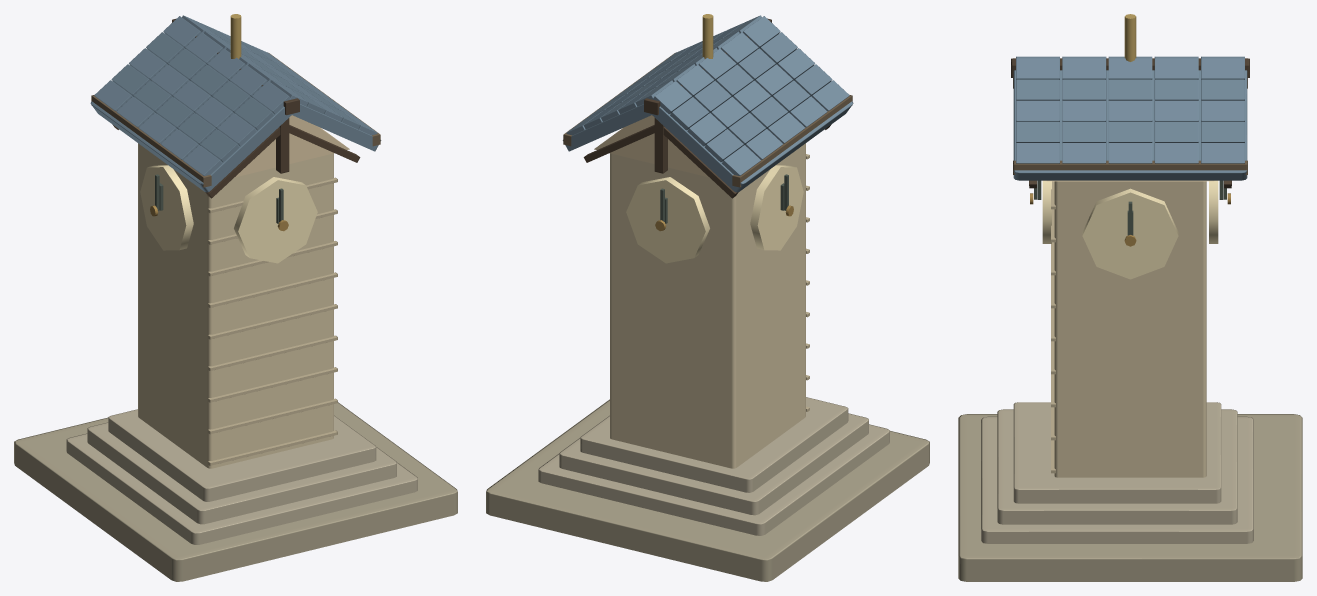
Rendered from clock-2.glb.
3 renders of one model, left to right at view 1: azimuth 30°, elevation 25°; view 2: azimuth 150°, elevation 25°; view 3: azimuth 270°, elevation 25°, orthographic. The views are drawn at different scales.
Visible parts, largest first — view 1: clock-2-0; view 2: clock-2-0; view 3: clock-2-0.
Part boxes in pixels (x1,y1,x2,y2): clock-2-0: (14,14,457,581); clock-2-0: (486,14,929,581); clock-2-0: (958,14,1302,581).
Bounding box in the file's own units: 2.65 × 4.19 × 2.65.
